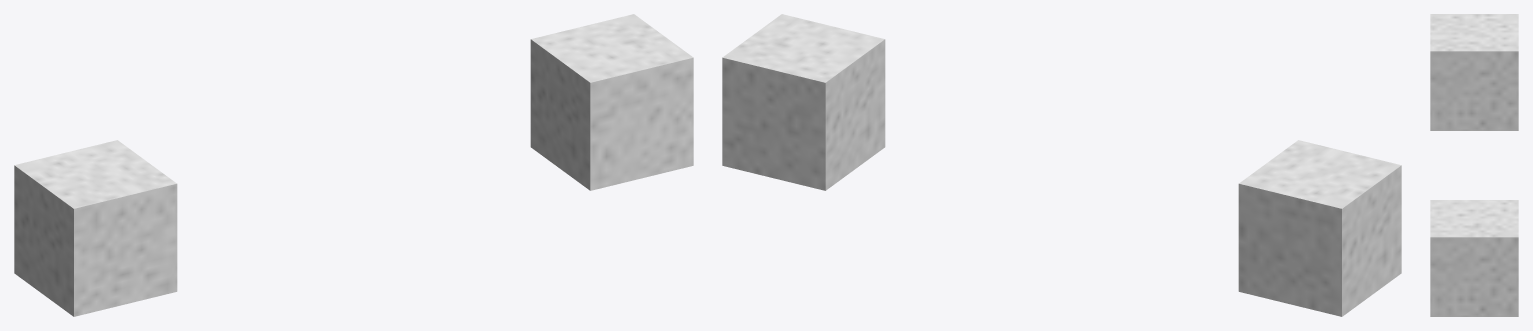
The model's file is tris.obj.
3 views of the same model, side by side, from view 1: azimuth 30°, elevation 25°; view 2: azimuth 150°, elevation 25°; view 3: azimuth 270°, elevation 25° (orthographic). The views are drawn at different scales.
Parts seen in each view (by area): view 1: slot1; view 2: slot1; view 3: slot1.
Boxes of the visible parts, bbox=[...] form: slot1: bbox=[14, 14, 693, 316]; slot1: bbox=[722, 14, 1401, 316]; slot1: bbox=[1430, 14, 1518, 316].
Bounding box in the file's own units: 6 × 1 × 1.
